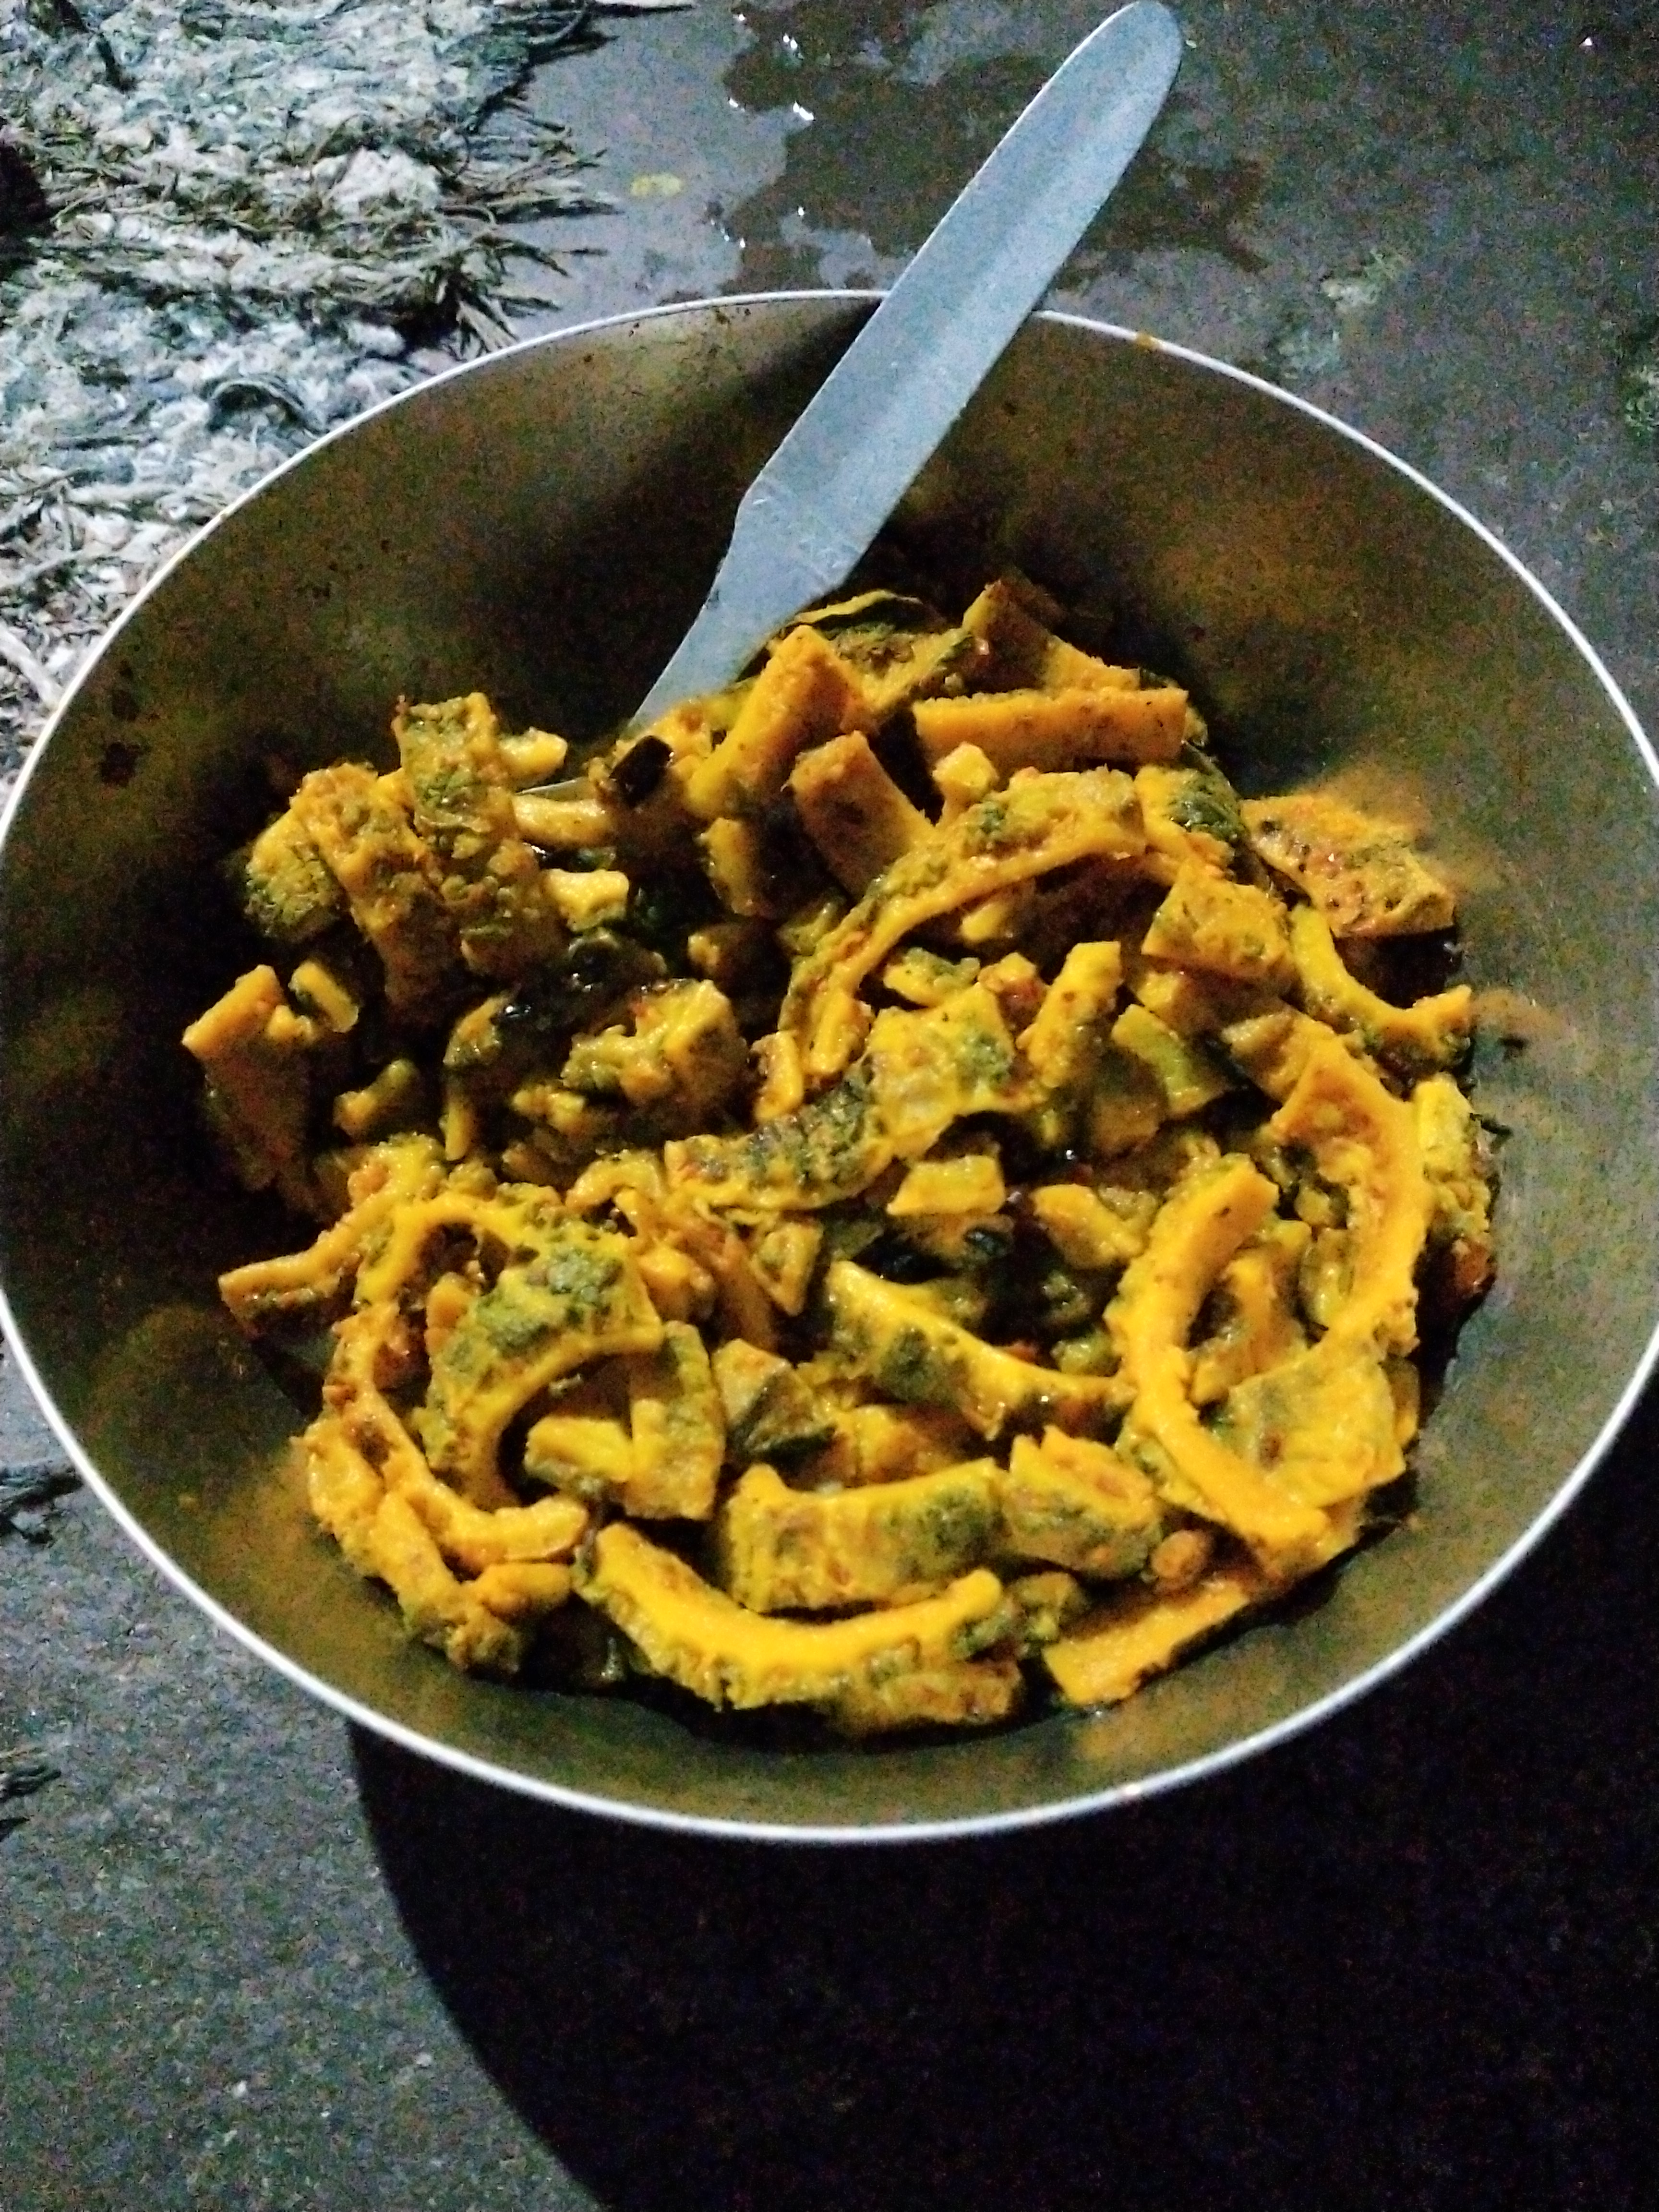food: (164, 556, 1523, 1745)
